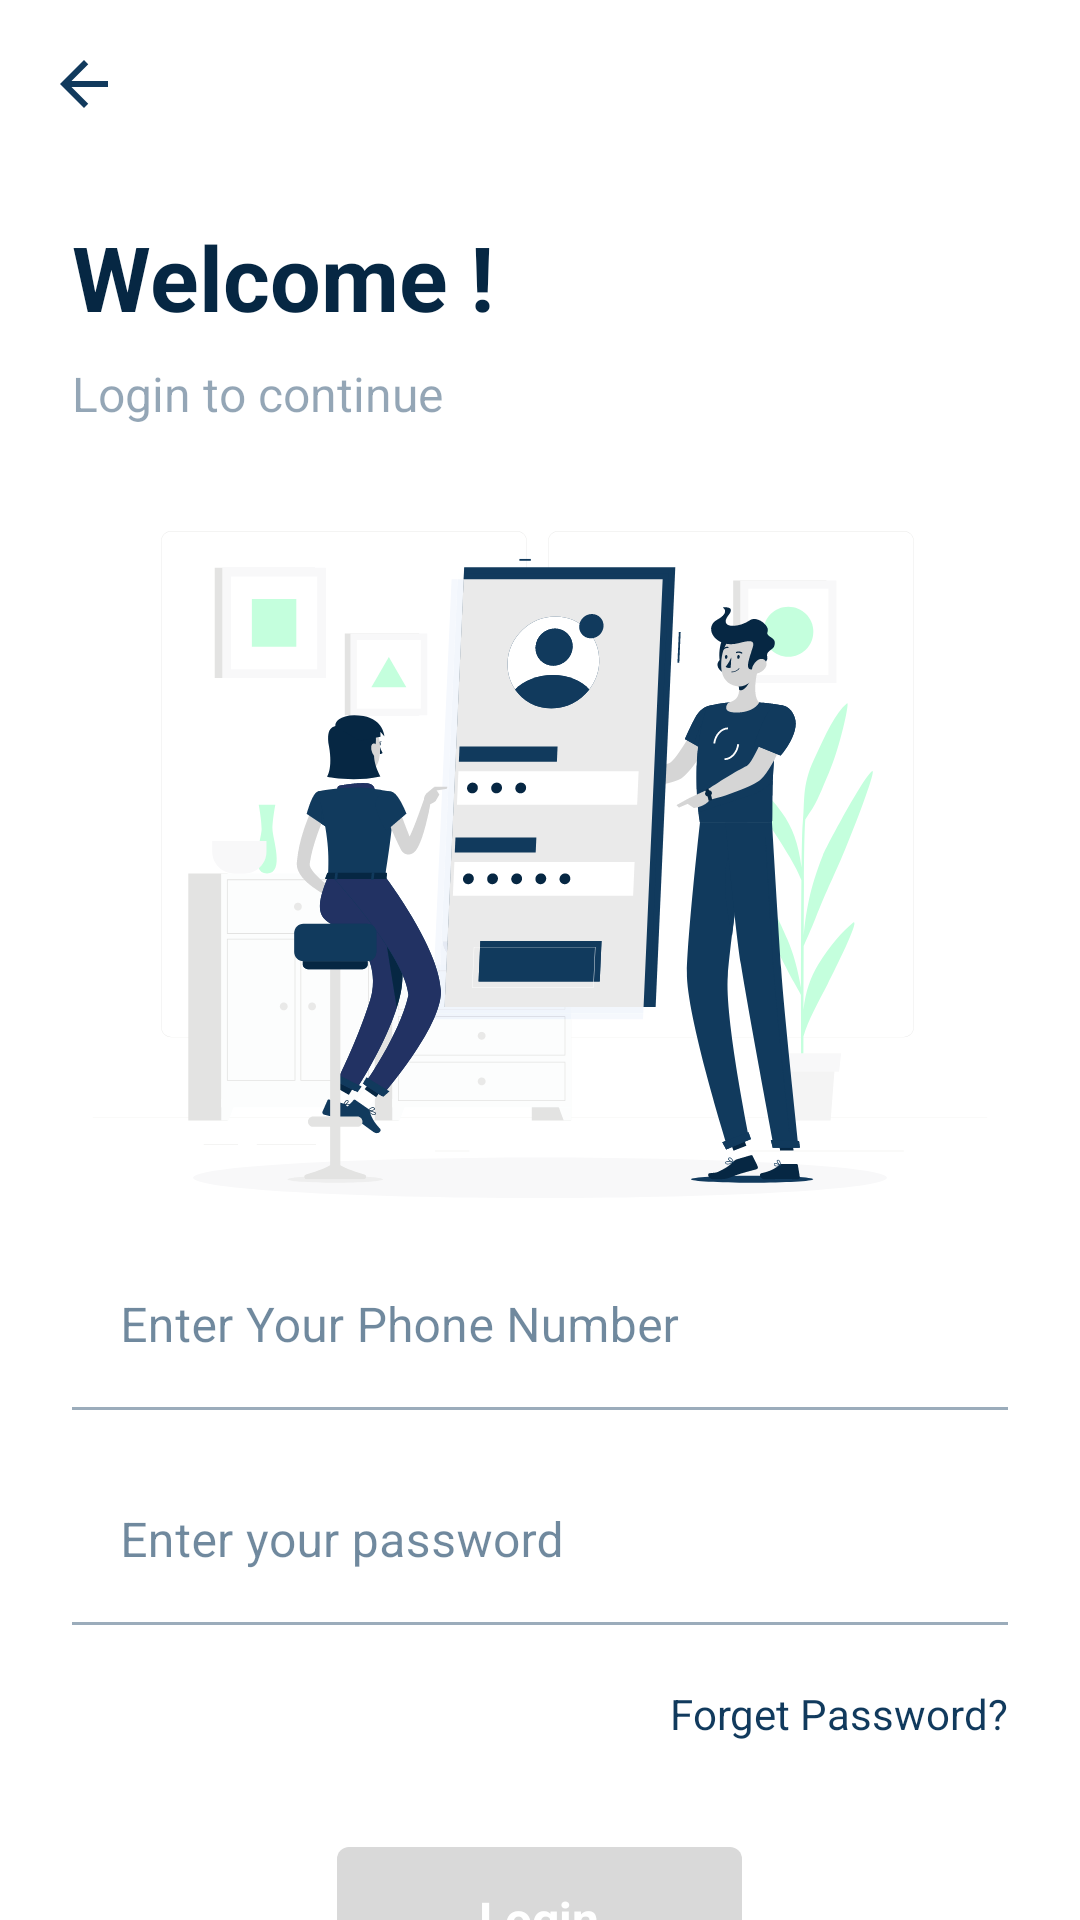

Named icons in this screenshot (1080 × 1920) and their centers, (x,y):
back arrow: (84,84)
